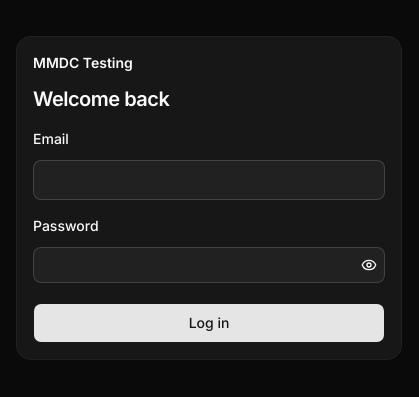
Test case: LoginForm › renders an auth error returned by BetterAuth
Step 1. Type "maintainer@example.com" into the field labelled "Email" → (209, 180), box [33,160,385,200]
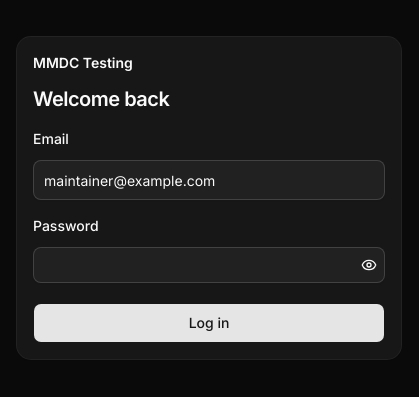
Step 2. Type "password123" into the password field labelled "Password" → (194, 265), box [34,247,354,283]
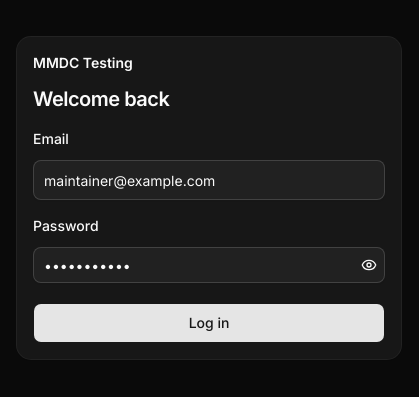
Step 3. Submit the form "Log in", box [33,129,385,343]
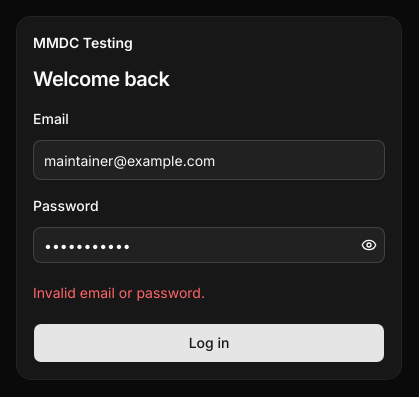
Result: the text "Invalid email or password." is shown at [33,284,205,301]
